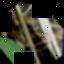Morning glory: (0, 4, 59, 64)
